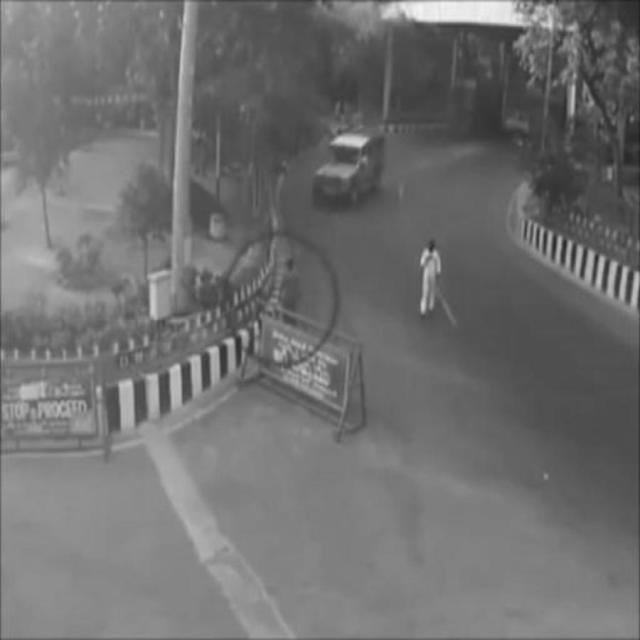person: (416, 235, 443, 315), (281, 260, 303, 333)
vehicle: (313, 134, 389, 207)
